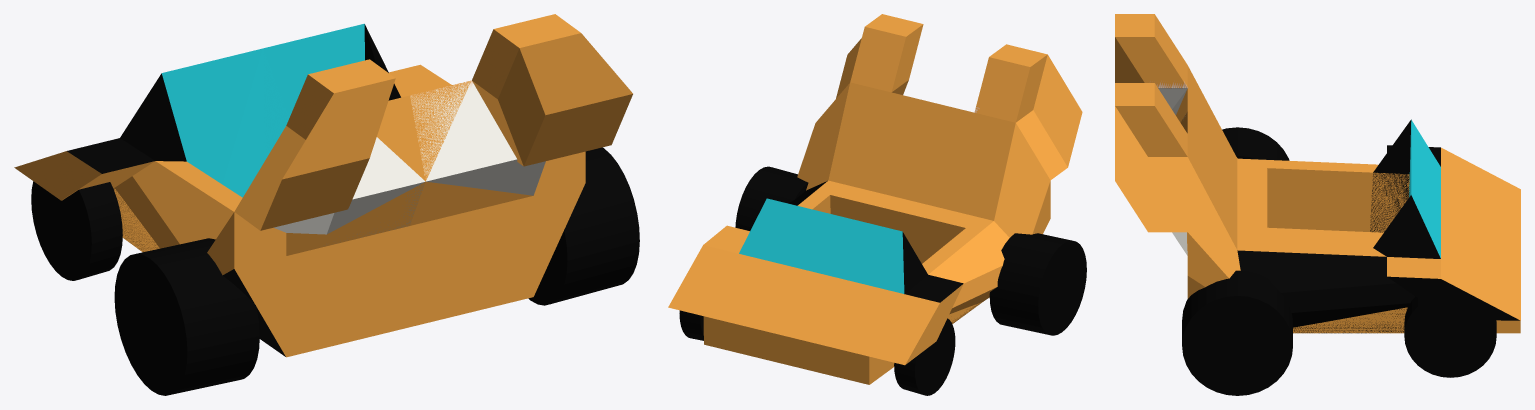
File: GocartV2.obj
The picture shows the model from 3 angles, left to right: view 1: azimuth 30°, elevation 25°; view 2: azimuth 150°, elevation 25°; view 3: azimuth 270°, elevation 25°; orthographic projection. The views are drawn at different scales.
Visible parts, largest first — view 1: Auto_Cube.001; view 2: Auto_Cube.001; view 3: Auto_Cube.001.
Boxes of the visible parts, x1,y1,x2,y2 form: Auto_Cube.001: (14, 14, 639, 395); Auto_Cube.001: (668, 14, 1086, 395); Auto_Cube.001: (1115, 14, 1520, 395).
Size of the model in its own units: 2.4 by 1.68 by 2.44.
